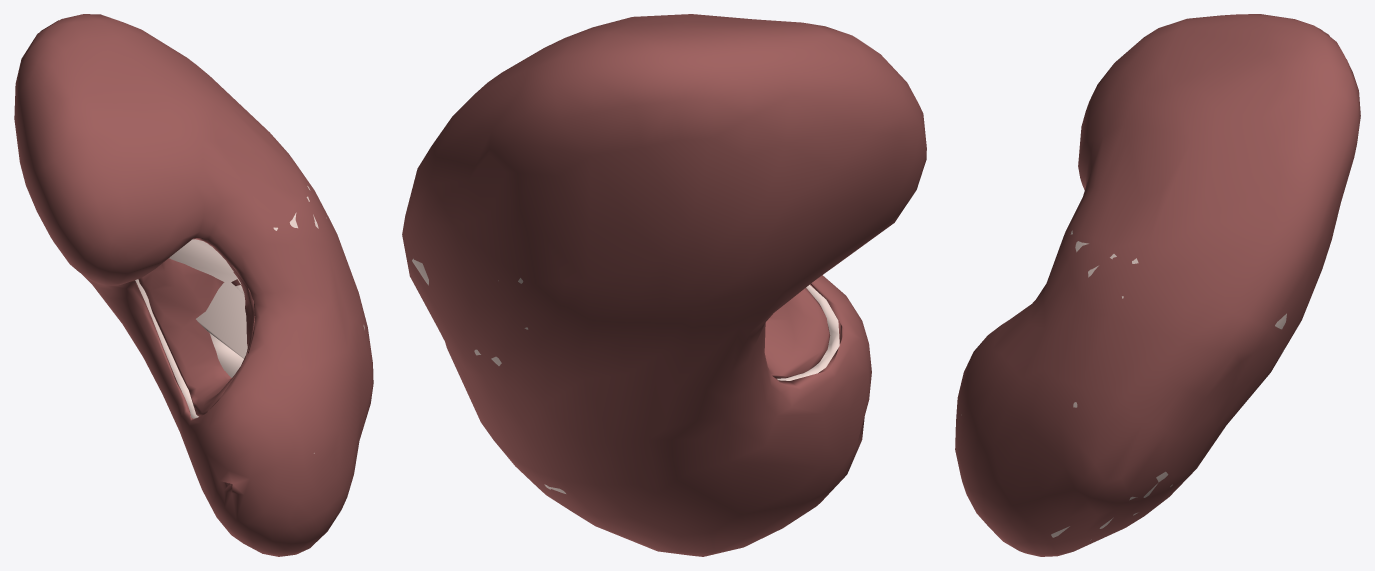
File: 3d-vh-m-kidney-l_lod_20.glb
3 views of the same model, side by side, from view 1: azimuth 30°, elevation 25°; view 2: azimuth 150°, elevation 25°; view 3: azimuth 270°, elevation 25° (orthographic). The views are drawn at different scales.
Visible parts, largest first — view 1: VH_M_kidney_capsule_L, VH_M_hilum_of_kidney_L, VH_M_renal_column_L, VH_M_outer_cortex_of_kidney_L; view 2: VH_M_kidney_capsule_L, VH_M_hilum_of_kidney_L, VH_M_outer_cortex_of_kidney_L; view 3: VH_M_kidney_capsule_L, VH_M_outer_cortex_of_kidney_L.
Boxes of the visible parts, box(x1,y1,x2,y2) form: VH_M_kidney_capsule_L: box(14, 14, 373, 556); VH_M_hilum_of_kidney_L: box(138, 239, 254, 416); VH_M_renal_column_L: box(169, 239, 247, 377); VH_M_outer_cortex_of_kidney_L: box(135, 186, 364, 453); VH_M_kidney_capsule_L: box(402, 14, 926, 556); VH_M_hilum_of_kidney_L: box(764, 288, 830, 378); VH_M_outer_cortex_of_kidney_L: box(412, 258, 839, 493); VH_M_kidney_capsule_L: box(955, 14, 1360, 556); VH_M_outer_cortex_of_kidney_L: box(961, 230, 1286, 540).
Bounding box in the file's own units: 0.0757 × 0.1065 × 0.0824.
